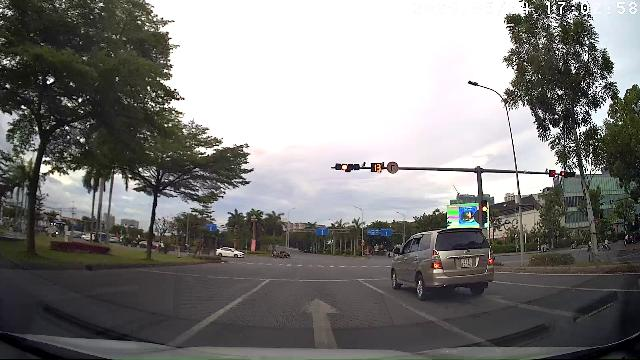123b-cam-re-phai: (388, 161, 398, 173)
